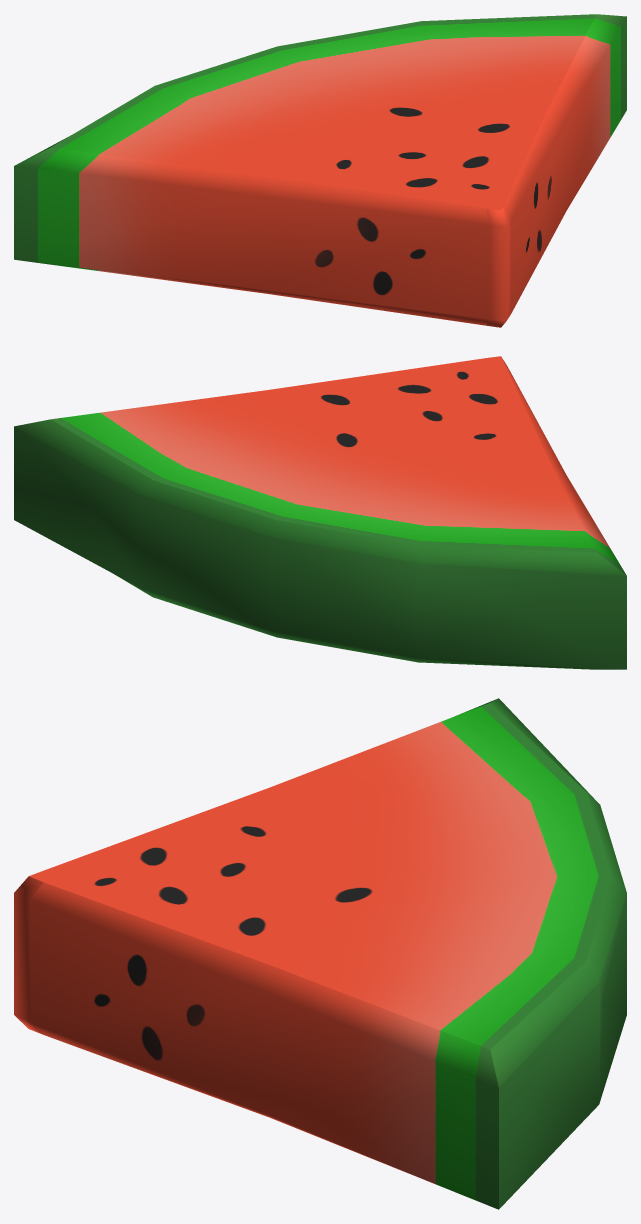
Rendered from Pasteque_Unique.fbx.
3 renders of one model, top to bottom at view 1: azimuth 30°, elevation 25°; view 2: azimuth 150°, elevation 25°; view 3: azimuth 270°, elevation 25°, orthographic. The views are drawn at different scales.
Visible parts, largest first — view 1: polySurface52; view 2: polySurface52; view 3: polySurface52.
Boxes of the visible parts, <box> form: polySurface52: <box>14,14,626,327</box>; polySurface52: <box>14,356,626,669</box>; polySurface52: <box>14,698,626,1209</box>.
Size of the model in its own units: 6.69 by 1.22 by 4.45.
